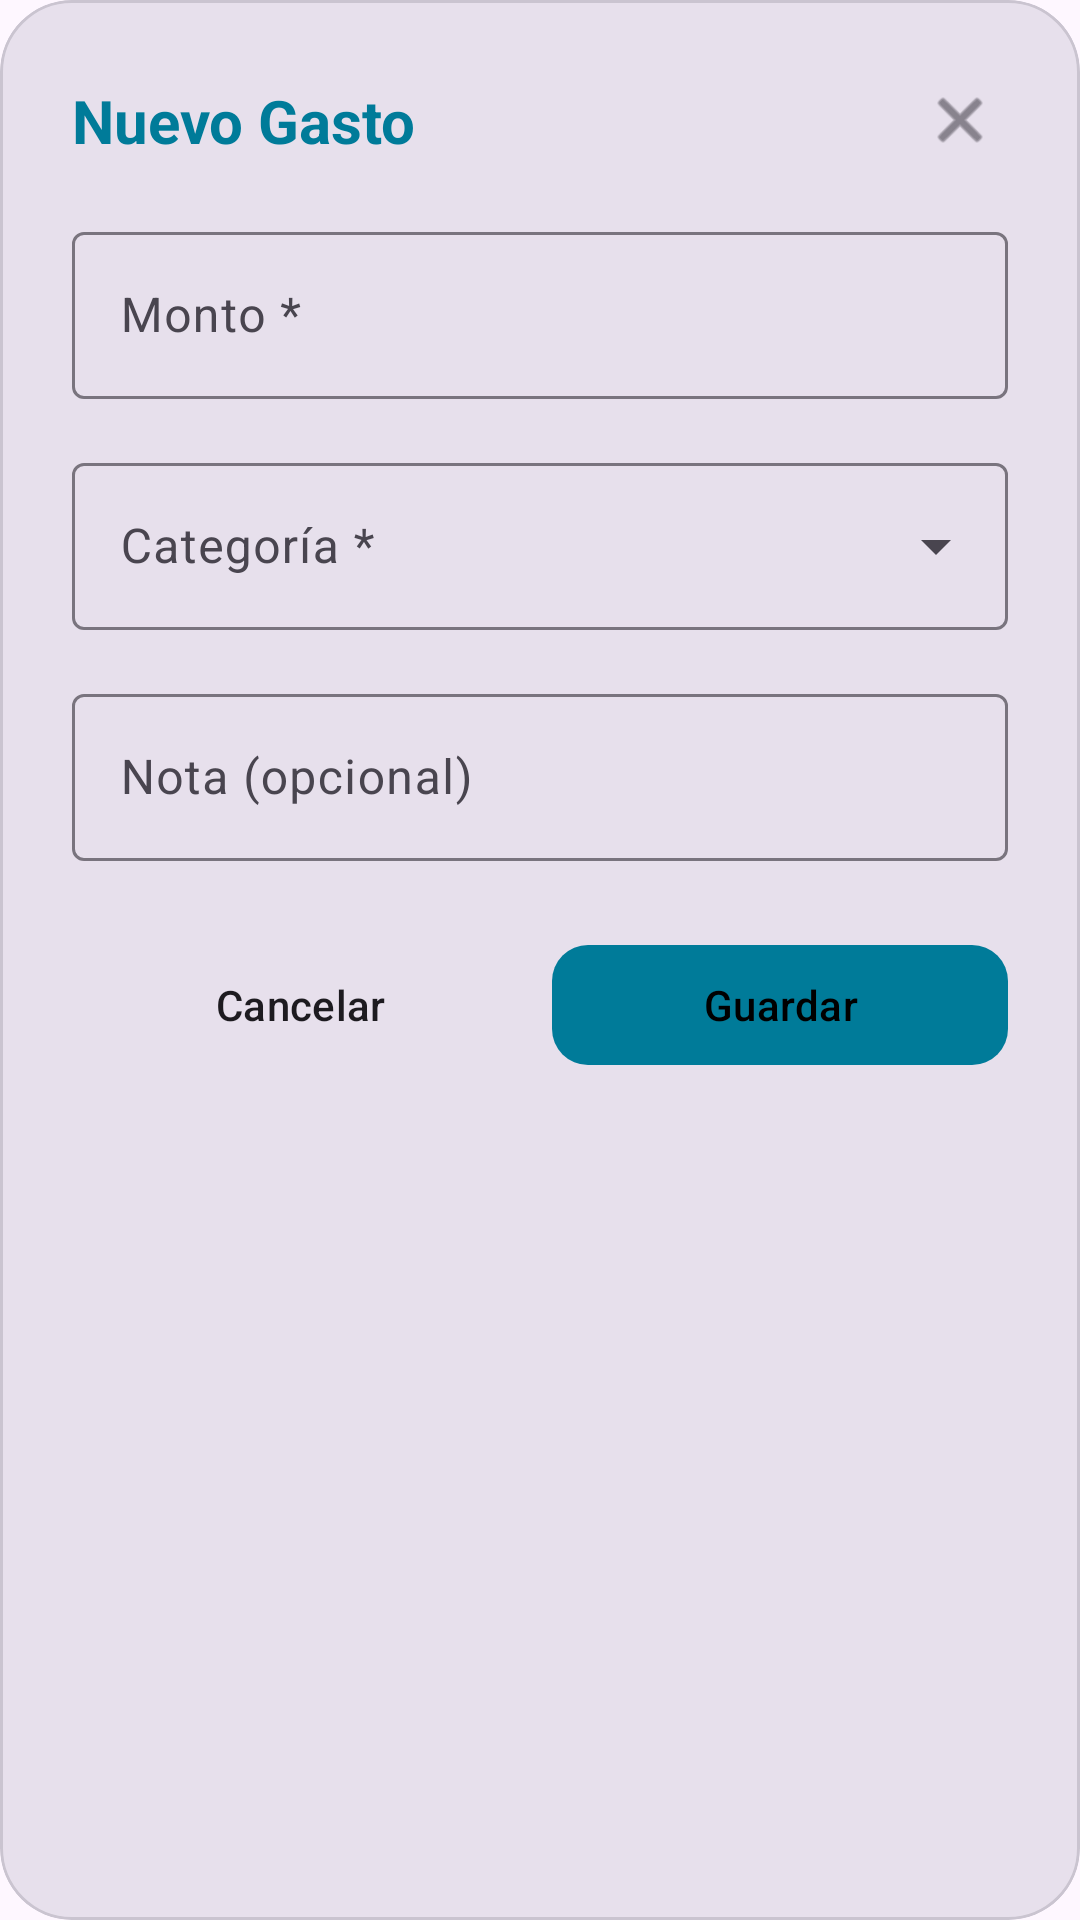

Icons on this 1080px x 1920px Android screen, each with its box as box(x1, y1, x2, y2):
close clear cancel: box(938, 98, 982, 142)
